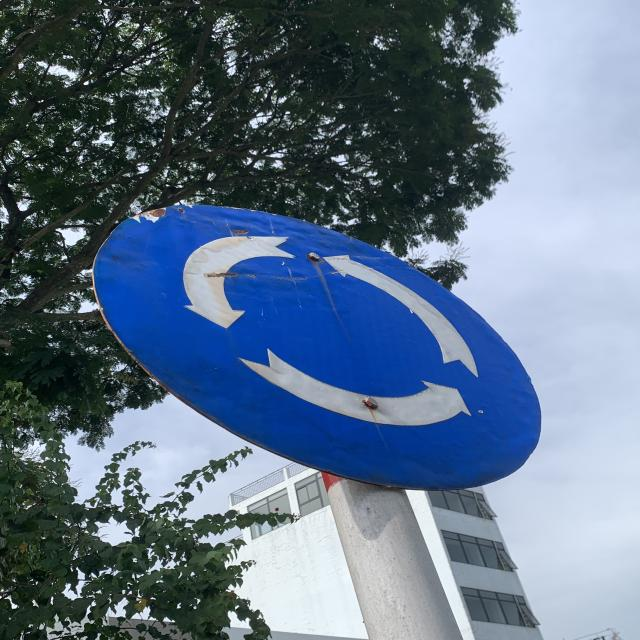Xe_Bus: (92, 200, 546, 494)
